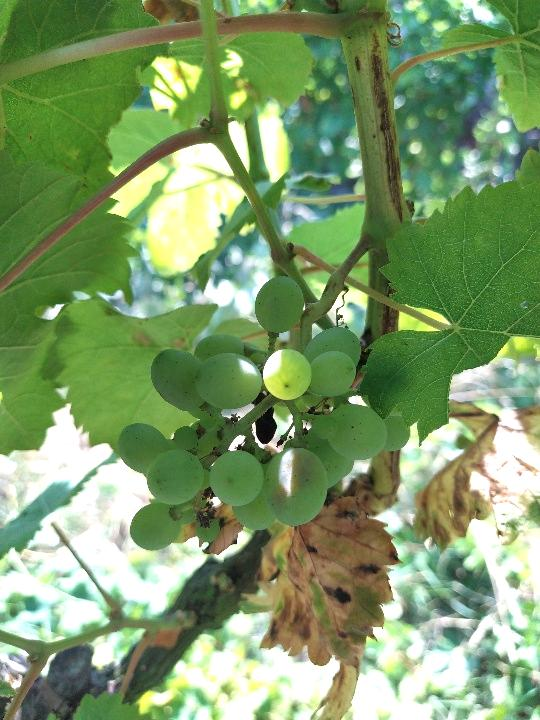grape: (117, 275, 414, 553)
